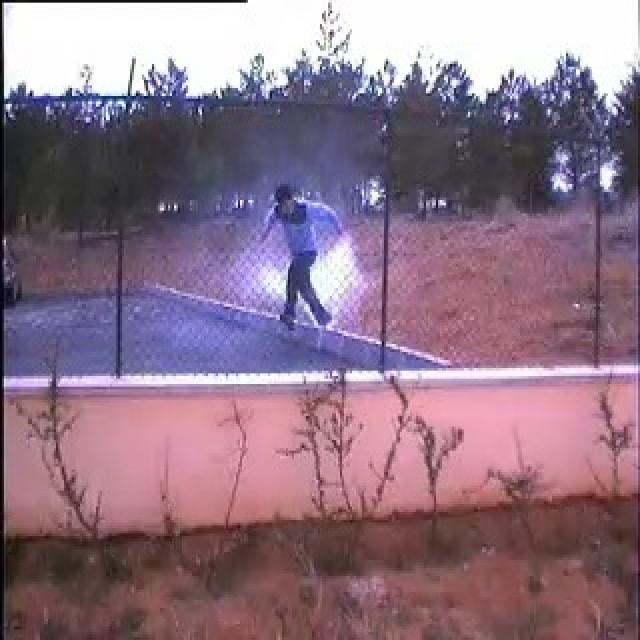smoke: (304, 239, 362, 306)
